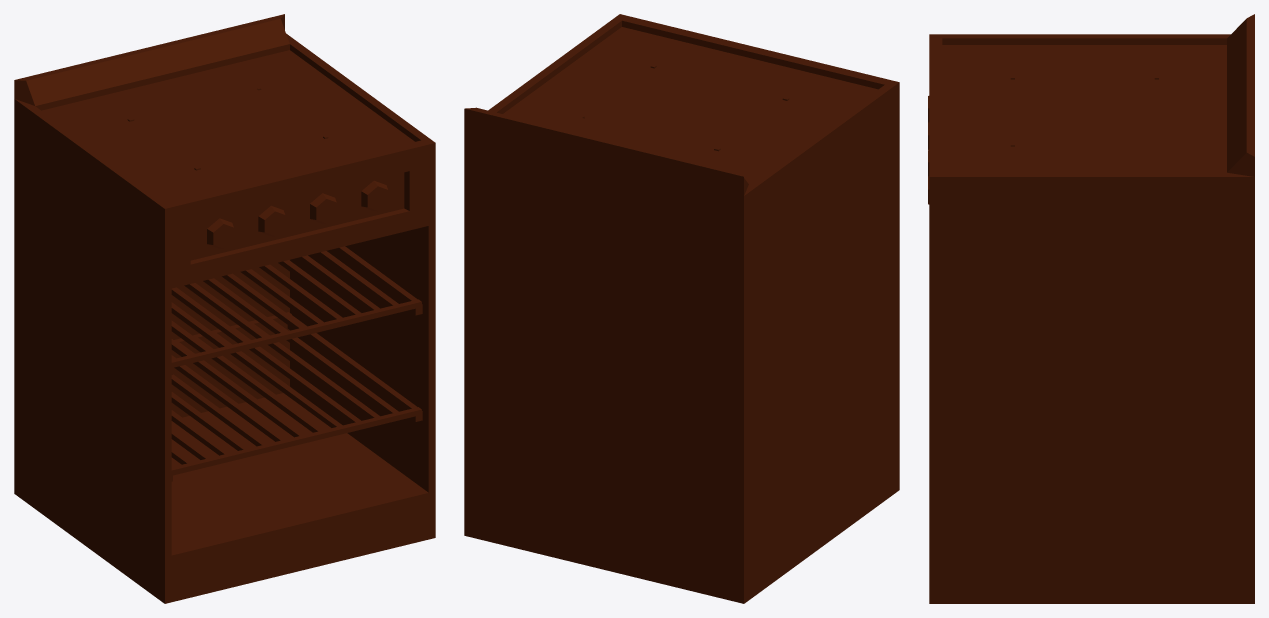
The model's file is Oven_03.fbx.
The picture shows the model from 3 angles, left to right: view 1: azimuth 30°, elevation 25°; view 2: azimuth 150°, elevation 25°; view 3: azimuth 270°, elevation 25°; orthographic projection. The views are drawn at different scales.
Visible parts, largest first — view 1: Oven_02; view 2: Oven_02; view 3: Oven_02.
Boxes of the visible parts, box(x1,y1,x2,y2) form: Oven_02: box(14, 14, 435, 603); Oven_02: box(464, 14, 899, 603); Oven_02: box(928, 14, 1254, 603).
Size of the model in its own units: 0.6366 by 0.9291 by 0.6153.
